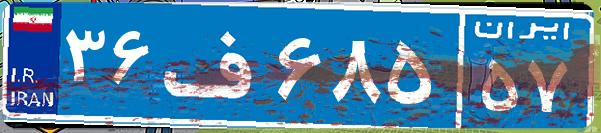3: (57, 26, 110, 107)
5: (385, 28, 445, 110), (475, 38, 525, 113)
6: (273, 28, 330, 110), (110, 28, 158, 105)
7: (525, 38, 570, 115)
8: (330, 28, 385, 110)
ف: (158, 15, 273, 115)
